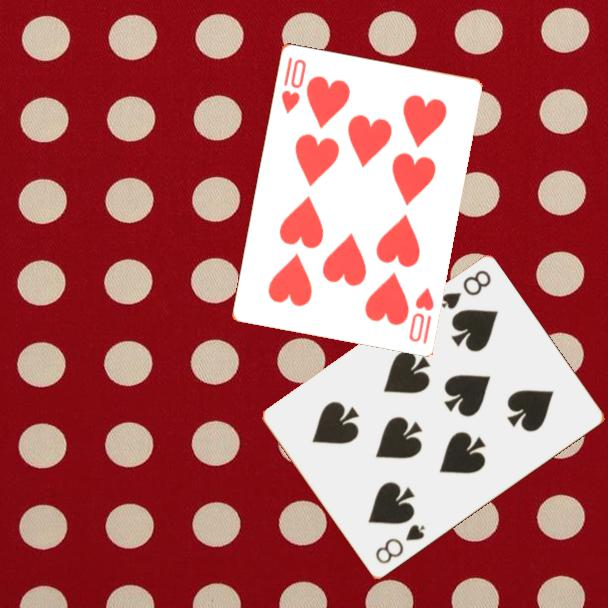h10: (278, 53, 309, 116), (405, 284, 436, 346)
s08: (437, 267, 494, 313), (372, 521, 428, 567)
